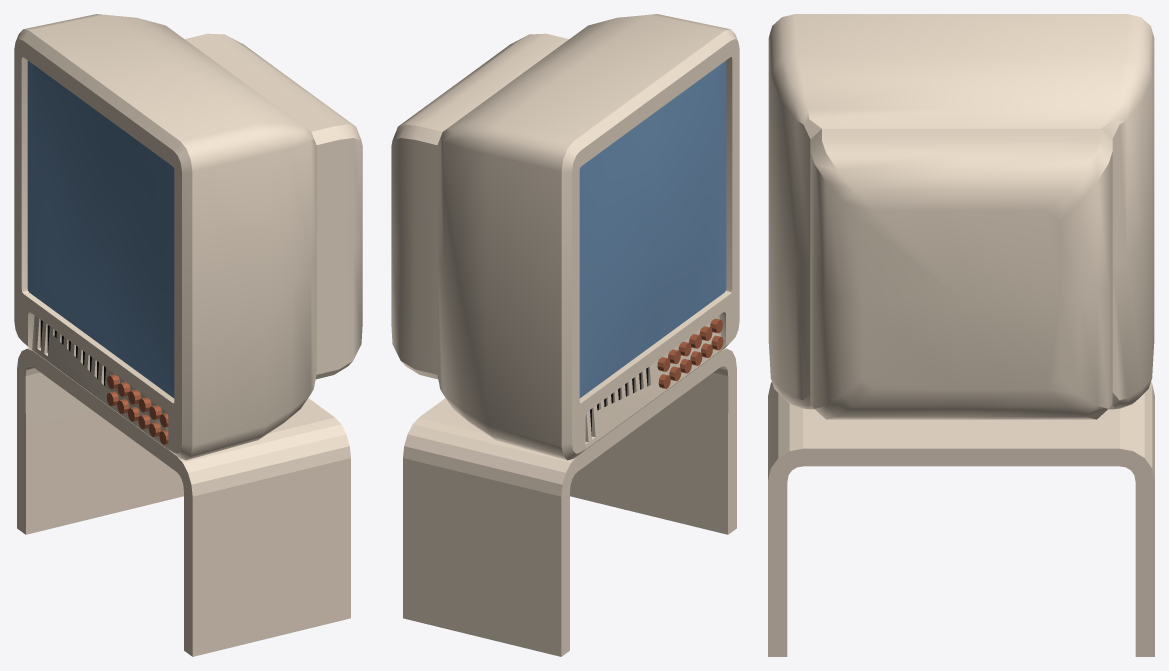
File: tele_polarizada_05.fbx
The picture shows the model from 3 angles, left to right: view 1: azimuth 30°, elevation 25°; view 2: azimuth 150°, elevation 25°; view 3: azimuth 270°, elevation 25°; orthographic projection. The views are drawn at different scales.
Parts seen in each view (by area): view 1: Cubo; view 2: Cubo; view 3: Cubo.
Part boxes in pixels (left/top/right/bottom): Cubo: left=14, top=14, right=362, bottom=656; Cubo: left=391, top=14, right=739, bottom=656; Cubo: left=768, top=14, right=1154, bottom=656.
Size of the model in its own units: 141 by 318 by 200.
